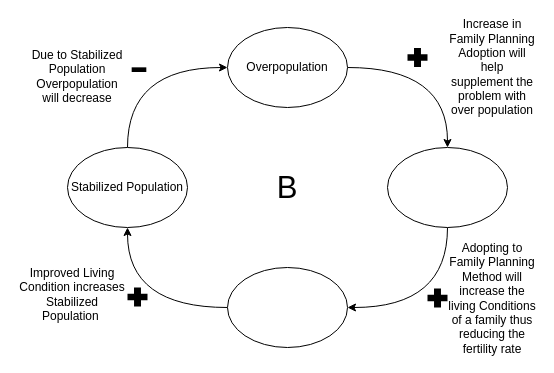
Some shapes in this 554 by 373 pixel diagram are drawn without their labels. The centre of each missing label's shape, as x and y in pixels:
Family Planning Adoption: the point at 447,187
Improved Living Conditions: the point at 287,307
